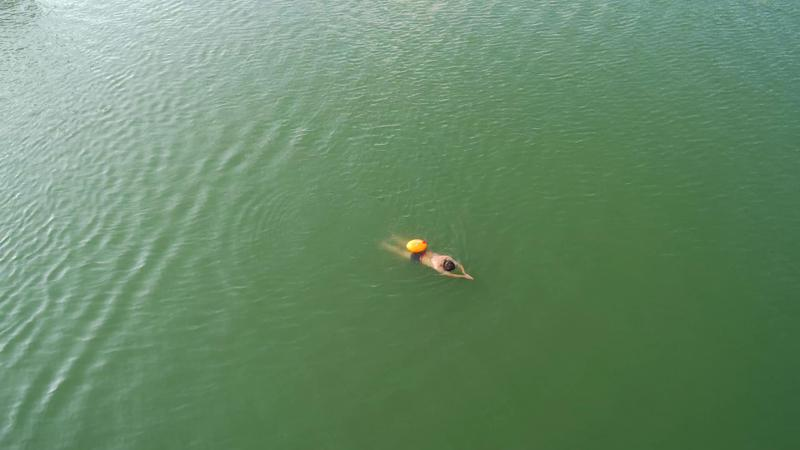swimmers: (379, 232, 473, 281)
